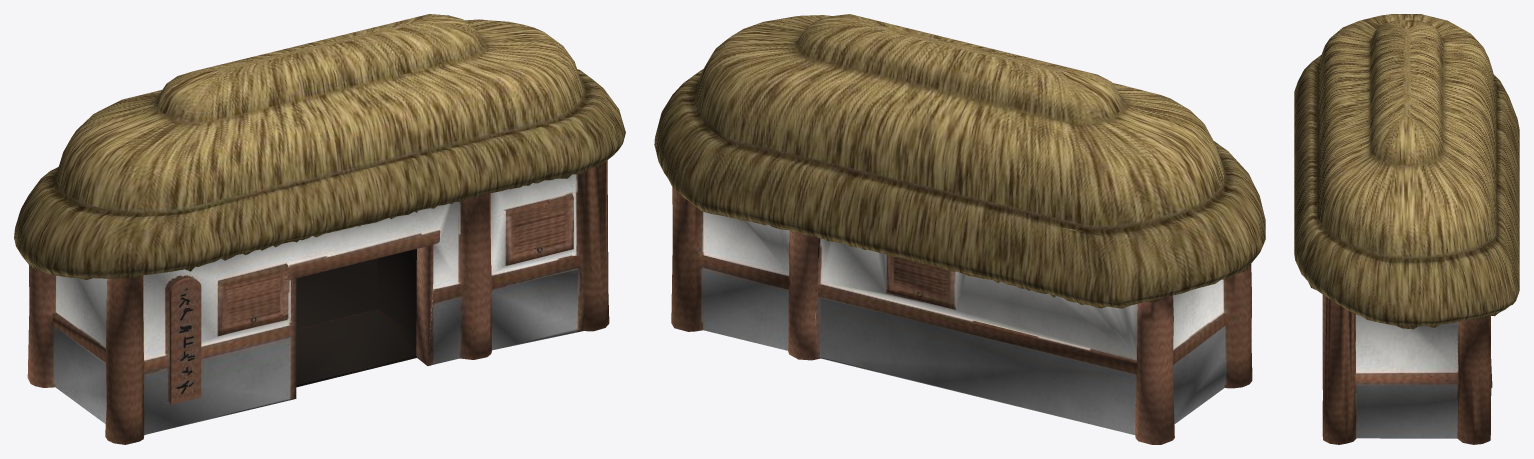
The model's file is house-plain.glb.
3 views of the same model, side by side, from view 1: azimuth 30°, elevation 25°; view 2: azimuth 150°, elevation 25°; view 3: azimuth 270°, elevation 25° (orthographic). The views are drawn at different scales.
Parts seen in each view (by area): view 1: house_plain_lod0; view 2: house_plain_lod0; view 3: house_plain_lod0.
Boxes of the visible parts, x1=… form: house_plain_lod0: x1=14, y1=14, x2=625, y2=444; house_plain_lod0: x1=654, y1=14, x2=1265, y2=444; house_plain_lod0: x1=1294, y1=14, x2=1519, y2=444.
Bounding box in the file's own units: 8.13 × 4.08 × 3.12.
1 material, 1 textured.
